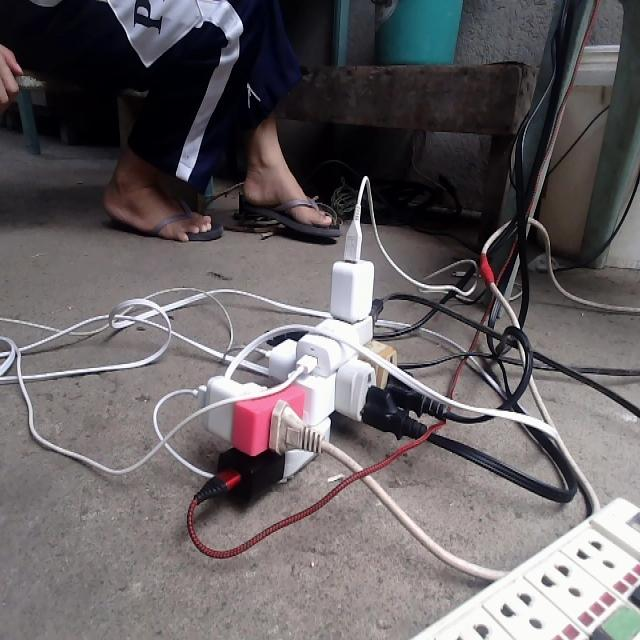-: (188, 222, 455, 510)
